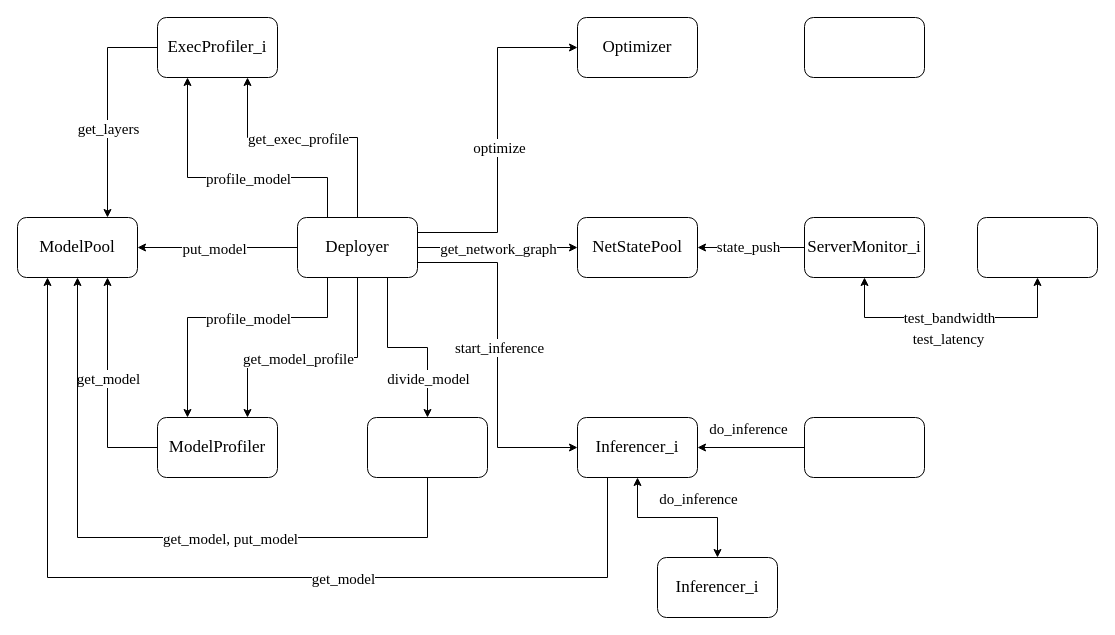
Image size: 1115x635. Some labels were removed from this diagram. The centre of each missing label's shape, as x and y in pixels:
FrontEnd: pixel 864 447
ModelDivider: pixel 427 447
Registry: pixel 864 47
ServerMonitor_j: pixel 1037 247
